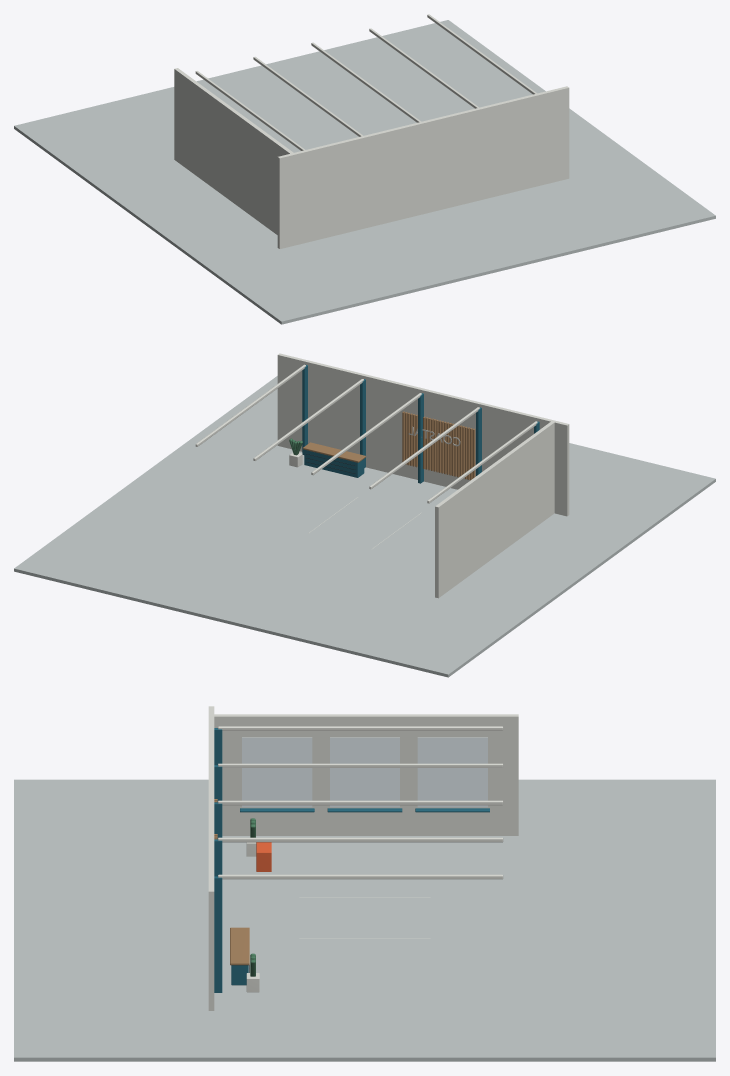
File: coastal_garage.glb
The picture shows the model from 3 angles, top to bottom: view 1: azimuth 30°, elevation 25°; view 2: azimuth 150°, elevation 25°; view 3: azimuth 270°, elevation 25°; orthographic projection. The views are drawn at different scales.
Visible parts, largest first — view 1: floor, rear wall, side wall, roof beam.002, roof beam.003, roof beam.001, roof beam.004, roof beam; view 2: floor, rear wall, side wall, tool bench, roof beam, roof beam.001, roof beam.004, roof beam.002, roof beam.003; view 3: floor, side wall, sky panel, sky panel.002, sky panel.001, rear wall, roof beam.002, roof beam.003, roof beam.004, roof beam, roof beam.001, blue column.004 (+1 smaller).
Boxes of the visible parts, x1=… form: floor: x1=14, y1=20, x2=715, y2=324; rear wall: x1=277, y1=86, x2=569, y2=248; side wall: x1=174, y1=68, x2=293, y2=234; roof beam.002: x1=311, y1=42, x2=421, y2=122; roof beam.003: x1=369, y1=28, x2=478, y2=108; roof beam.001: x1=253, y1=56, x2=363, y2=136; roof beam.004: x1=427, y1=14, x2=536, y2=94; roof beam: x1=195, y1=71, x2=305, y2=150; floor: x1=14, y1=376, x2=715, y2=677; rear wall: x1=277, y1=353, x2=569, y2=516; side wall: x1=435, y1=421, x2=555, y2=598; tool bench: x1=304, y1=449, x2=364, y2=477; roof beam: x1=427, y1=421, x2=537, y2=503; roof beam.001: x1=369, y1=407, x2=479, y2=489; roof beam.004: x1=195, y1=364, x2=305, y2=446; roof beam.002: x1=311, y1=393, x2=421, y2=475; roof beam.003: x1=253, y1=379, x2=363, y2=460; floor: x1=14, y1=779, x2=715, y2=1061; side wall: x1=214, y1=714, x2=518, y2=835; sky panel: x1=242, y1=737, x2=312, y2=807; sky panel.002: x1=417, y1=737, x2=487, y2=807; sky panel.001: x1=330, y1=737, x2=399, y2=807; rear wall: x1=208, y1=706, x2=214, y2=1010; roof beam.002: x1=218, y1=800, x2=503, y2=805; roof beam.003: x1=218, y1=837, x2=503, y2=842; roof beam.004: x1=218, y1=874, x2=503, y2=879; roof beam: x1=218, y1=726, x2=503, y2=730; roof beam.001: x1=218, y1=763, x2=503, y2=767; blue column.004: x1=214, y1=876, x2=222, y2=992.
Size of the model in its own units: 30 by 6.23 by 32.
